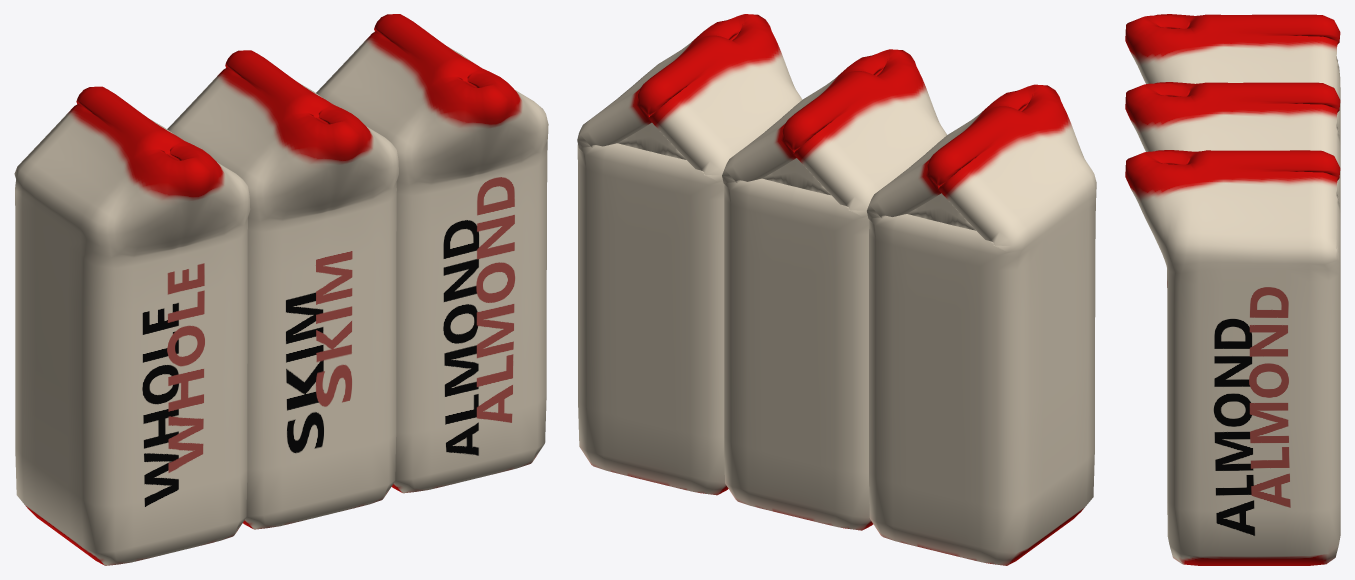
The model's file is Milk Station Model.fbx.
The picture shows the model from 3 angles, left to right: view 1: azimuth 30°, elevation 25°; view 2: azimuth 150°, elevation 25°; view 3: azimuth 270°, elevation 25°; orthographic projection. The views are drawn at different scales.
Visible parts, largest first — view 1: Milk Station Inverted Normals; view 2: Milk Station Inverted Normals; view 3: Milk Station Inverted Normals.
Part boxes in pixels (x1=…): Milk Station Inverted Normals: x1=14, y1=14, x2=548, y2=565; Milk Station Inverted Normals: x1=577, y1=14, x2=1096, y2=565; Milk Station Inverted Normals: x1=1125, y1=14, x2=1340, y2=565.
Size of the model in its own units: 47.64 by 40.98 by 20.7.
1 material, 1 textured.
